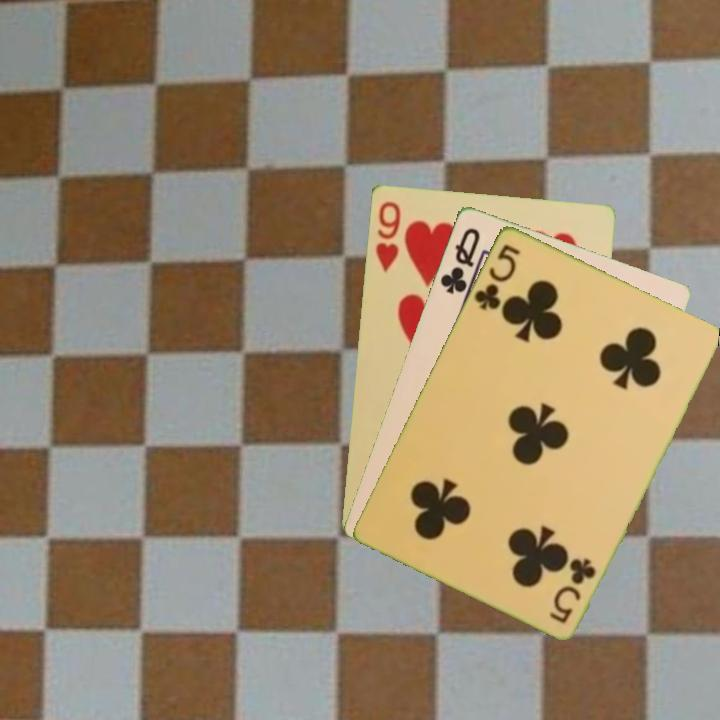5c: (470, 239, 523, 313), (545, 553, 598, 626)
9h: (371, 197, 403, 274)
Qc: (436, 223, 483, 297)
